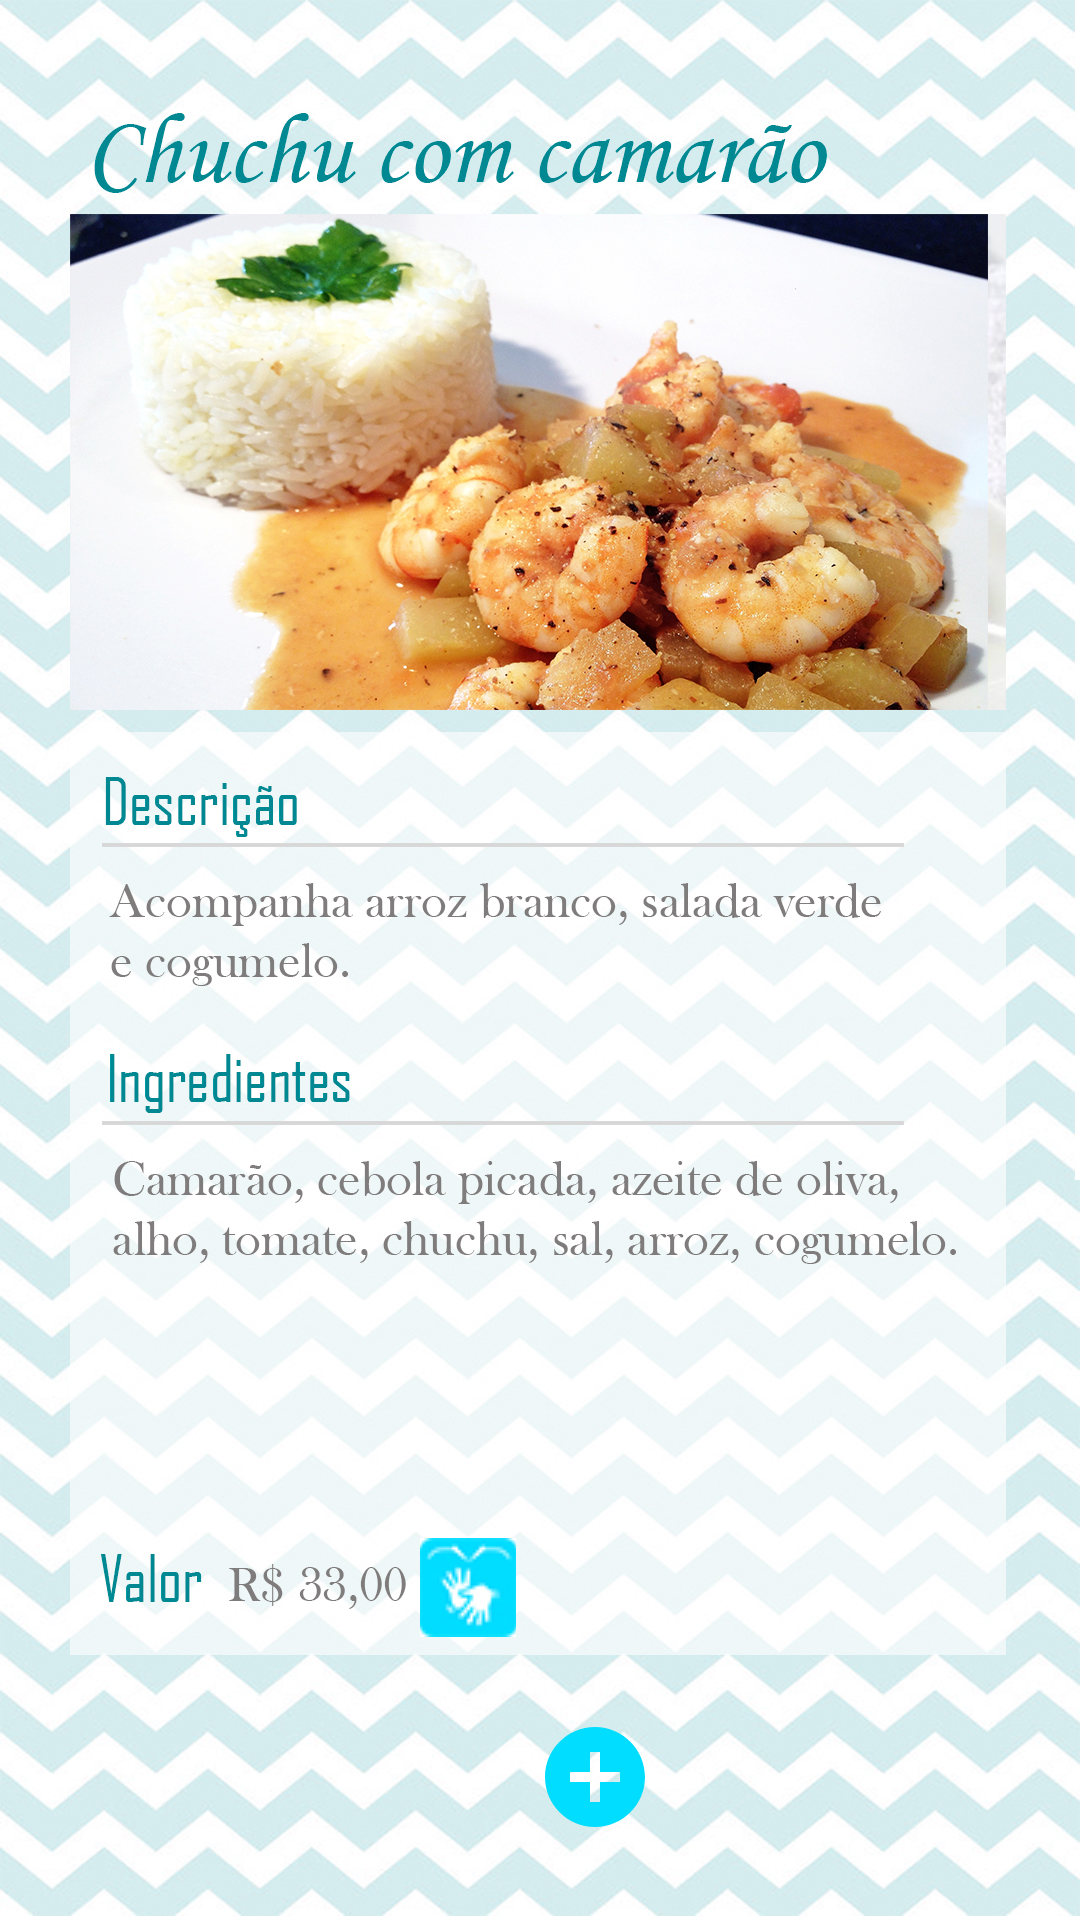

Icon click points for this 1080px x 1920px phone screenshot, format (x=x, y=y):
add: (x=594, y=1777)
